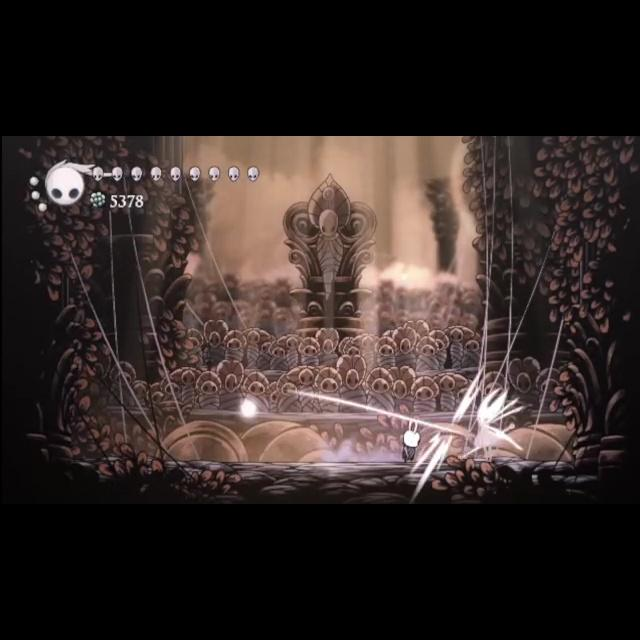EnemyDamaged: (464, 387, 518, 465)
Player: (397, 418, 425, 464)
